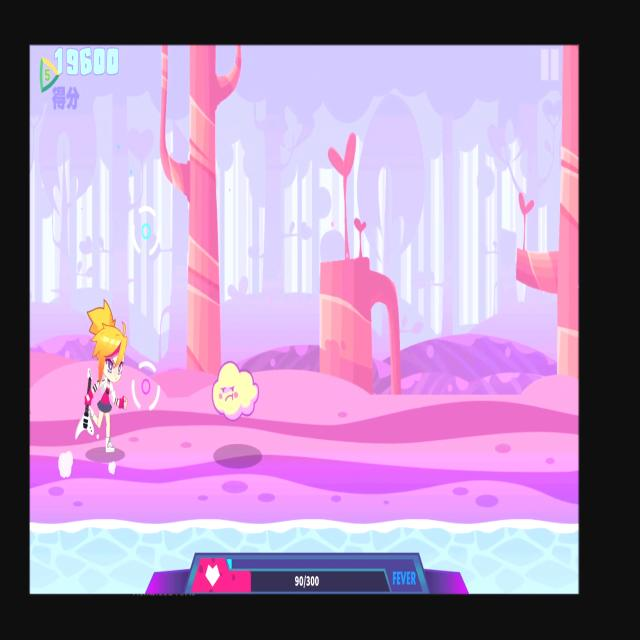yun: (210, 354, 262, 430)
